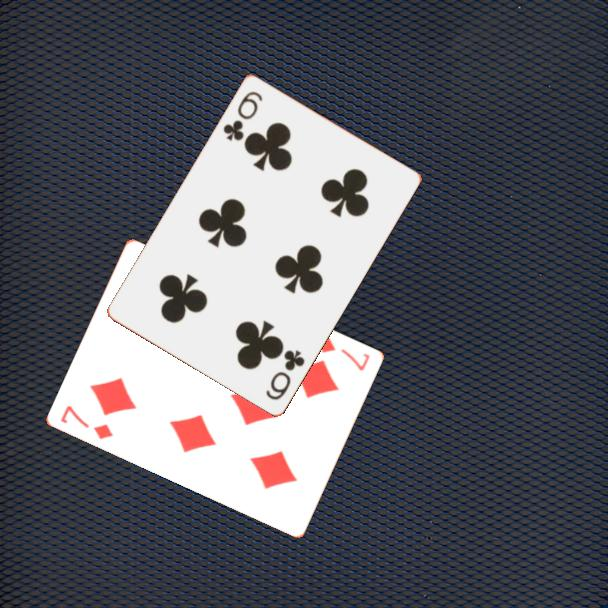c06: (219, 87, 266, 144), (262, 346, 308, 403)
d07: (57, 401, 116, 442), (314, 334, 374, 374)
